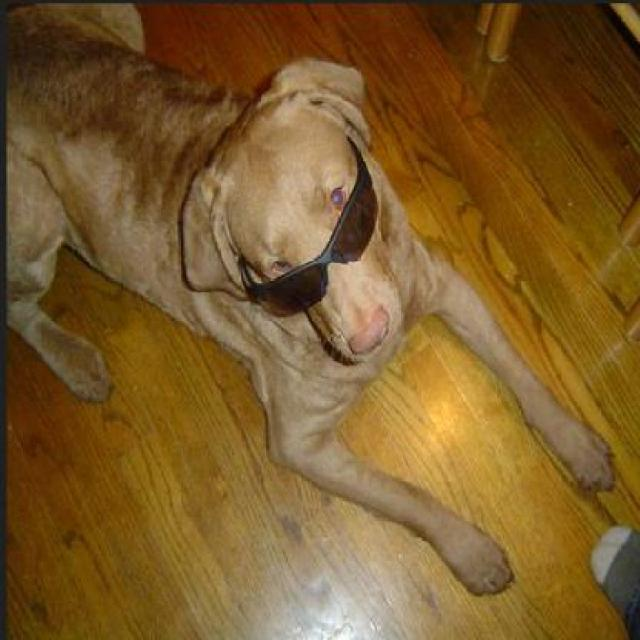Dog: (9, 6, 618, 599)
